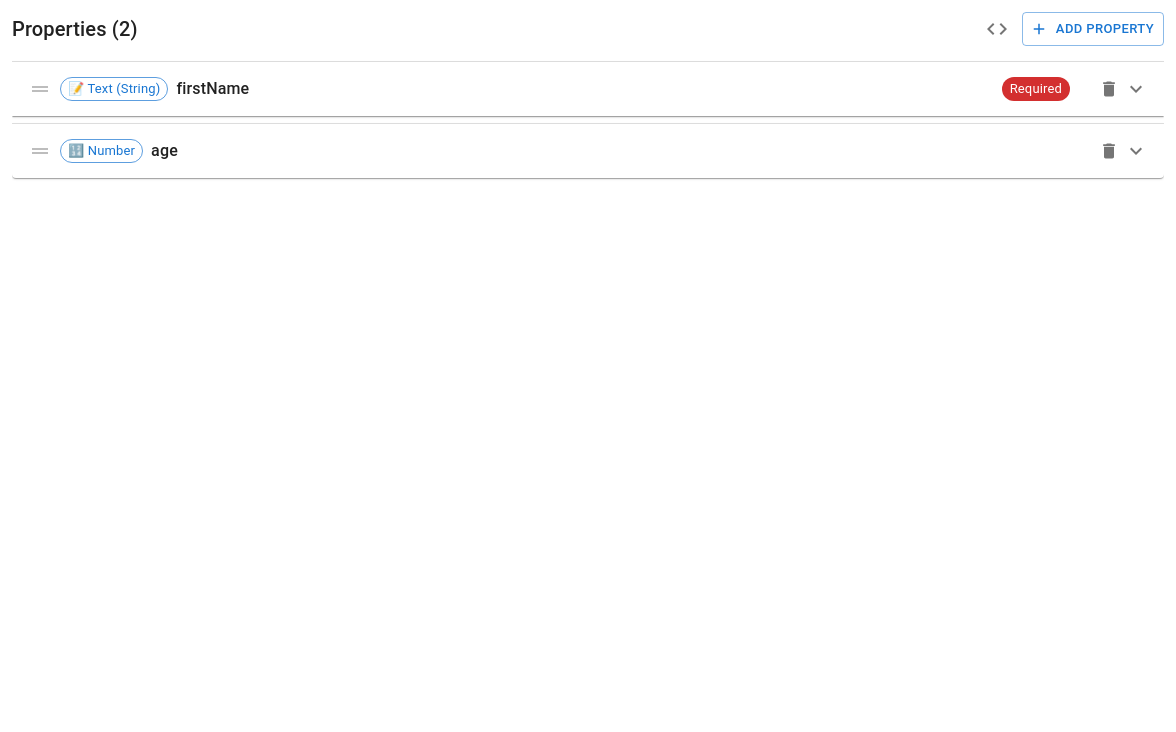
PropertySchemaBuilder › updates property type and shows appropriate constraints
# Expand age property (number type)
Click the text "age": (164, 151) [151, 139, 178, 163]
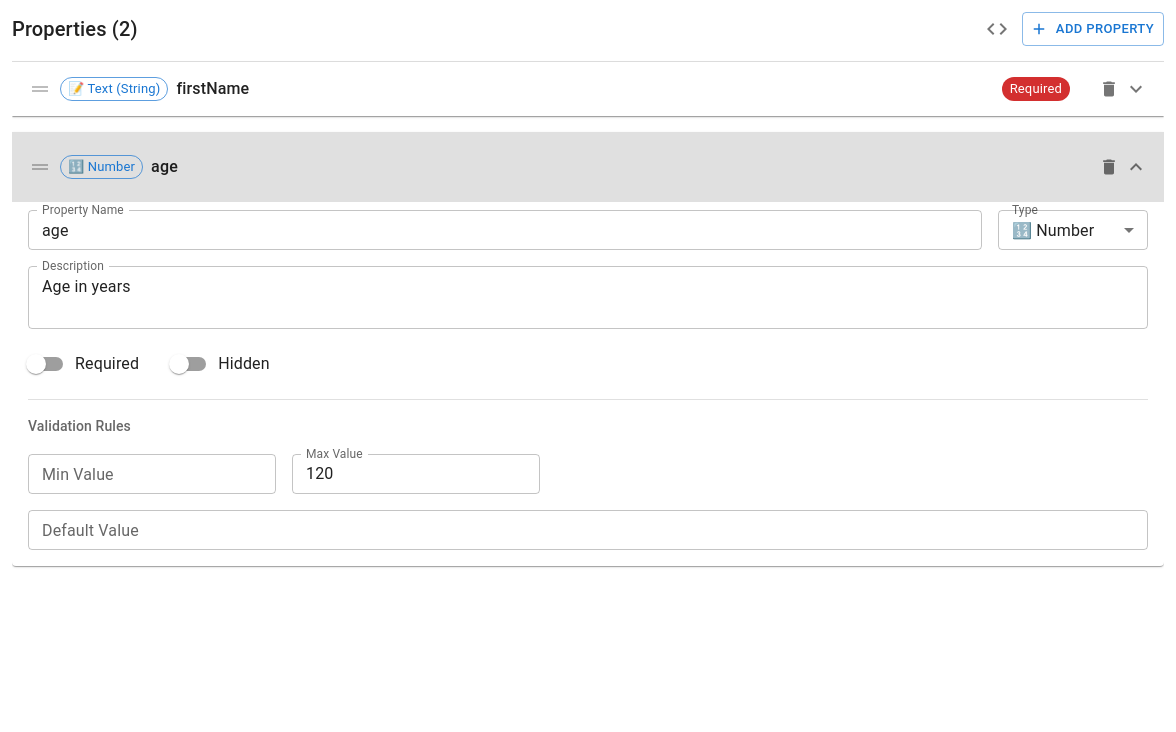
Result: the number field labelled "Min Value" is shown at [28, 454, 276, 494]
Result: the number field labelled "Max Value" is shown at [292, 454, 540, 494]
